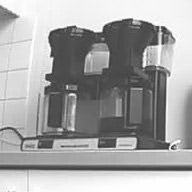empty coffee: (37, 80, 94, 138)
